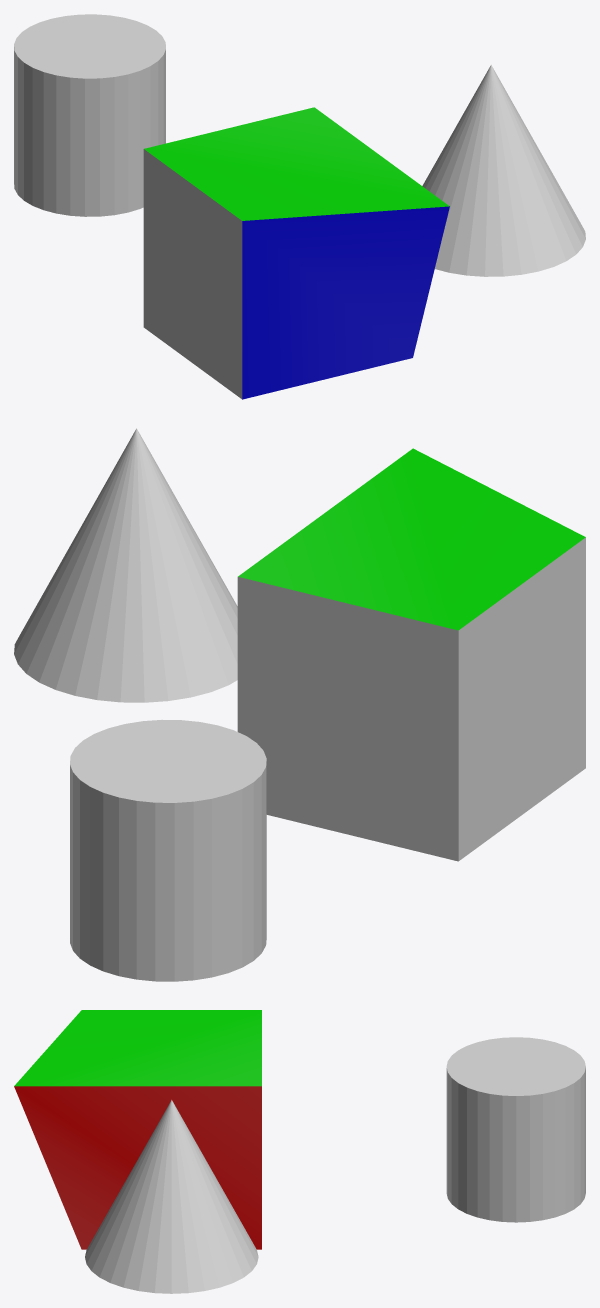
Rendered from three_elements.gltf.
3 renders of one model, top to bottom at view 1: azimuth 30°, elevation 25°; view 2: azimuth 150°, elevation 25°; view 3: azimuth 270°, elevation 25°, orthographic. The views are drawn at different scales.
Parts seen in each view (by area): view 1: Cube, Cylinder, Cone; view 2: Cube, Cylinder, Cone; view 3: Cube, Cylinder, Cone.
Boxes of the visible parts, x1,y1,x2,y2 form: Cube: [143, 107, 449, 399]; Cylinder: [14, 14, 165, 216]; Cone: [422, 65, 585, 276]; Cube: [237, 448, 585, 861]; Cylinder: [70, 719, 266, 981]; Cone: [14, 428, 237, 702]; Cube: [14, 1010, 261, 1249]; Cylinder: [446, 1037, 585, 1222]; Cone: [85, 1100, 258, 1293].
Size of the model in its own units: 2.23 by 1.27 by 3.17.
